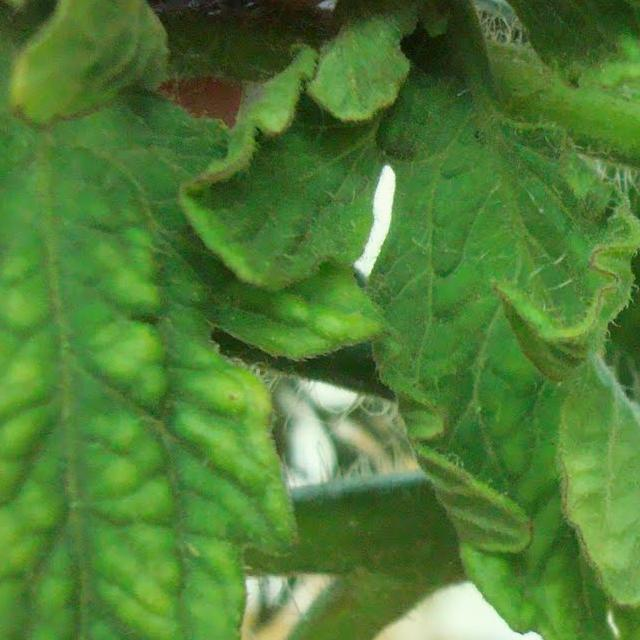Tomato leaf mosaic virus: (192, 30, 640, 640), (0, 25, 348, 640)
